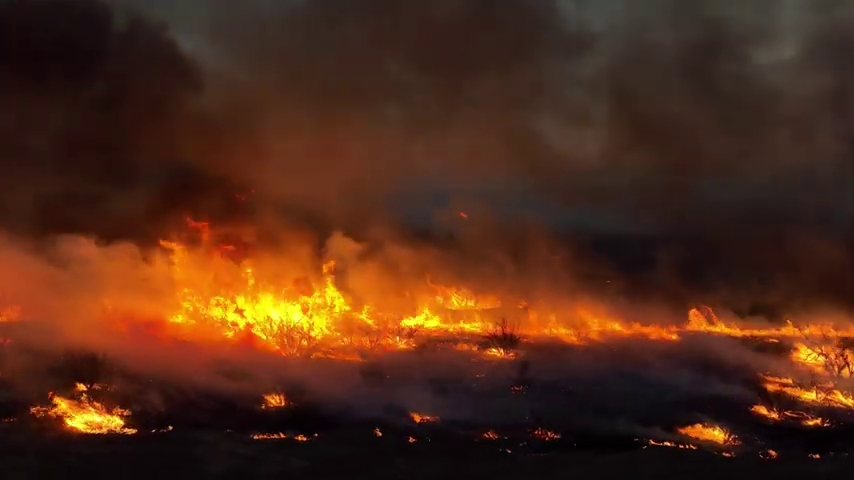forest_fire: (165, 261, 526, 361), (532, 310, 746, 345), (32, 382, 136, 432), (761, 374, 853, 410), (789, 326, 853, 377), (649, 421, 738, 447), (262, 393, 292, 407), (409, 412, 438, 423)
